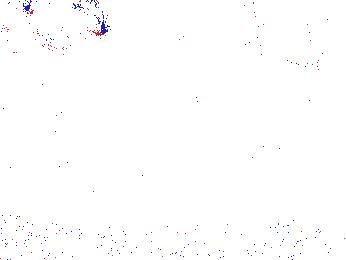moon jellyfish: (154, 32, 228, 105), (253, 1, 326, 69), (226, 44, 295, 106), (26, 1, 104, 36), (30, 4, 80, 52), (1, 3, 30, 53)
